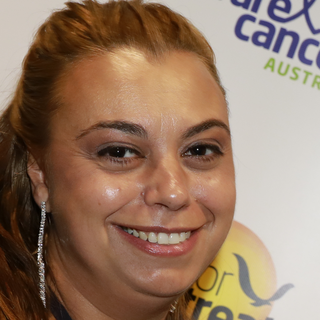eye: (85, 136, 148, 169), (177, 138, 227, 165)
